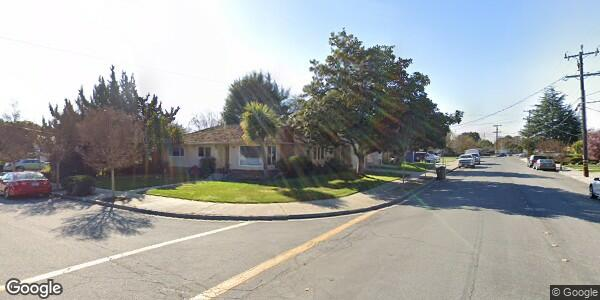Wood_Pole: (560, 43, 600, 179)
